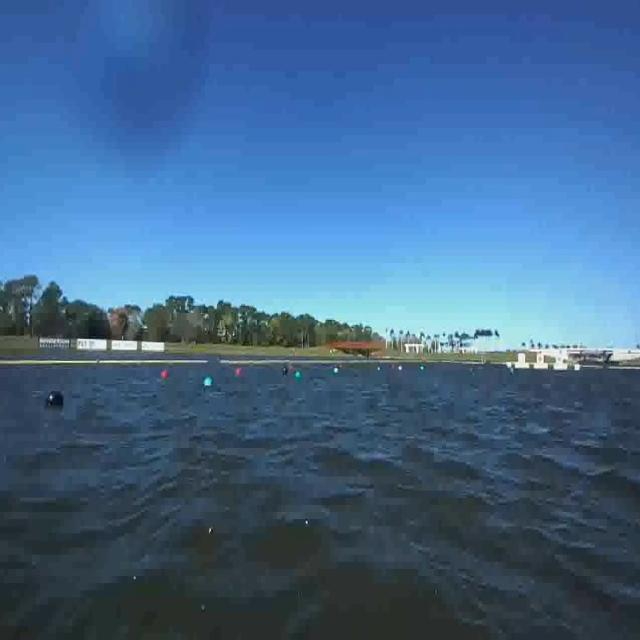black-buoy: (44, 391, 64, 407)
red-buoy: (163, 368, 170, 378)
